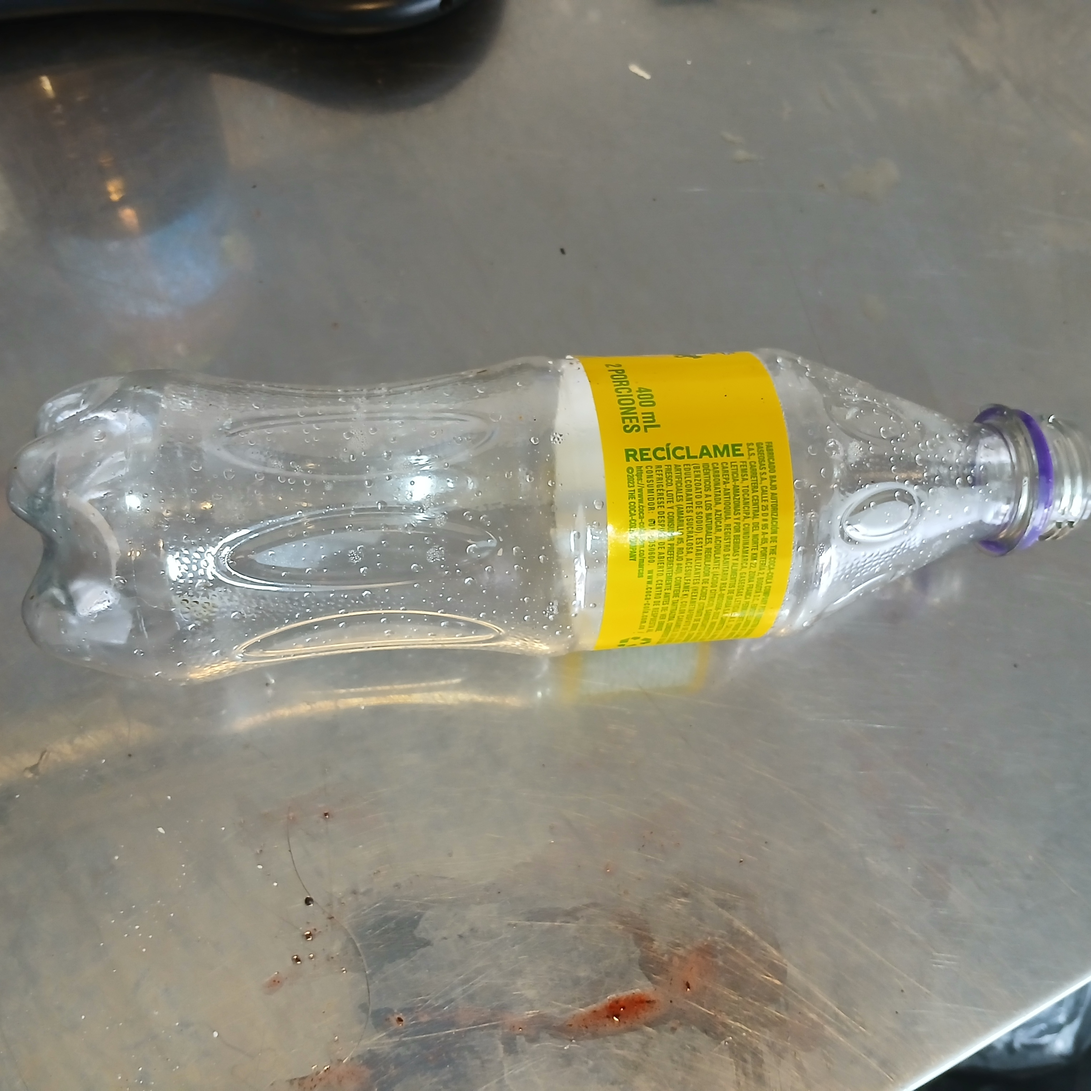Plastico: (0, 351, 1091, 686)
